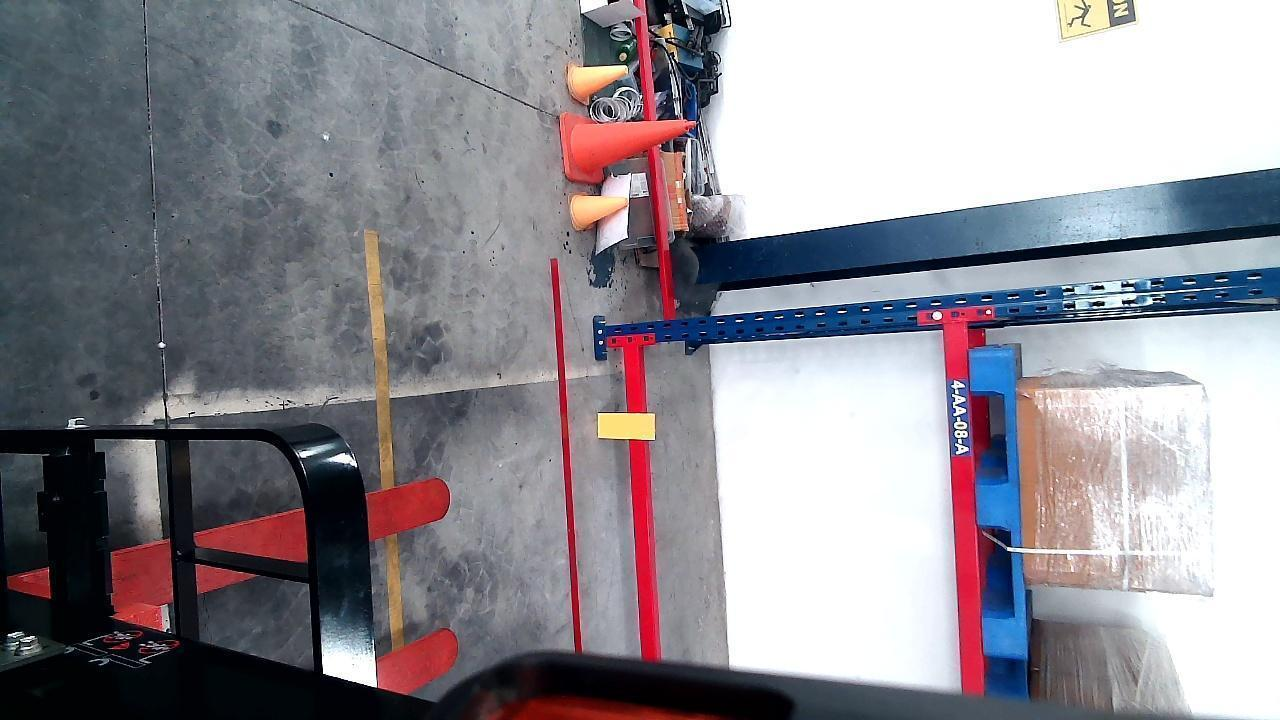red_line: (549, 253, 585, 661)
yellow_line: (363, 225, 403, 655)
